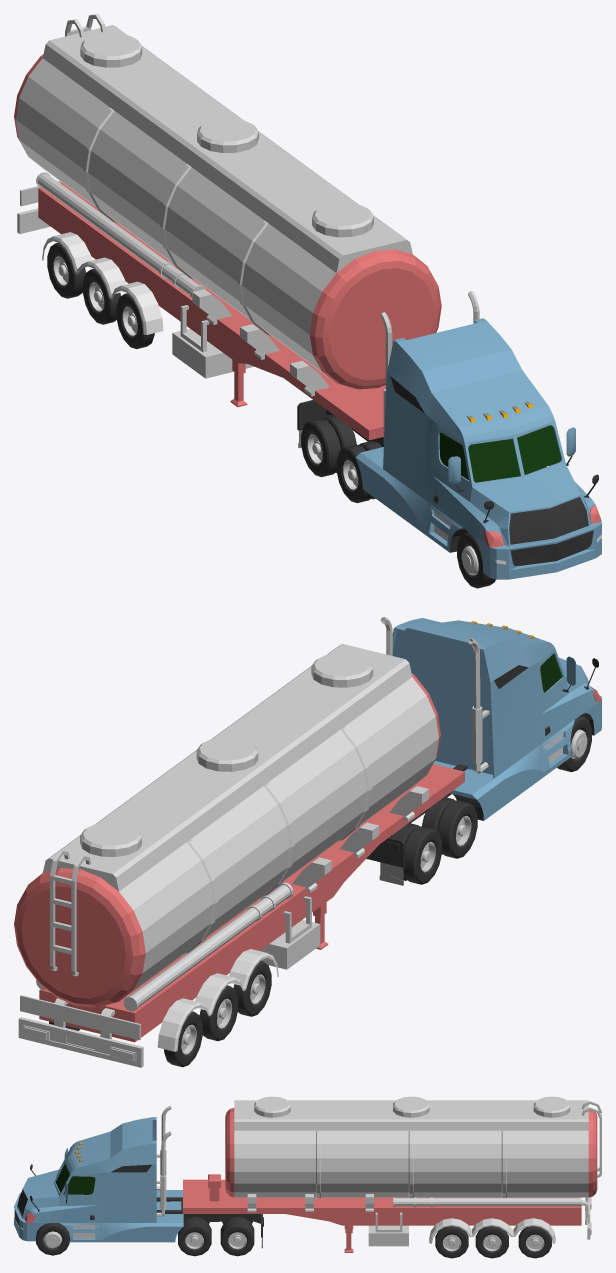
Rendered from truck-tanker.glb.
The picture shows the model from 3 angles, top to bottom: view 1: azimuth 30°, elevation 25°; view 2: azimuth 150°, elevation 25°; view 3: azimuth 270°, elevation 25°; orthographic projection. The views are drawn at different scales.
Visible parts, largest first — view 1: Bl, Cabin_2, TrailerBox, wheels_2, wheels2_2, Trailer4, wing, exhaust_2; view 2: Bl, Cabin_2, TrailerBox, Trailer4, wheels_2, wheels2_2, wing, exhaust_2, bottom_2; view 3: Bl, Cabin_2, TrailerBox, wheels_2, wheels1_2, Trailer4, wing, exhaust_2, bottom_2.
Part boxes in pixels (x1,y1,x2,y2): Bl: (14,14,441,396); Cabin_2: (355,318,601,579); TrailerBox: (38,182,385,440); wheels_2: (301,415,495,588); wheels2_2: (47,243,154,349); Trailer4: (17,180,254,378); wing: (42,232,163,334); exhaust_2: (380,291,479,444); Bl: (14,644,440,1011); Cabin_2: (392,618,601,820); TrailerBox: (39,764,464,1042); Trailer4: (18,896,320,1067); wheels_2: (391,715,591,884); wheels2_2: (164,961,271,1067); wing: (157,949,278,1051); exhaust_2: (380,617,489,773); bottom_2: (366,764,467,867); Bl: (225,1096,601,1211); Cabin_2: (14,1117,183,1242); TrailerBox: (183,1174,581,1252); wheels_2: (36,1217,254,1256); wheels1_2: (435,1226,551,1258); Trailer4: (368,1197,591,1246); wing: (429,1218,555,1243); exhaust_2: (156,1106,171,1216); bottom_2: (156,1197,263,1237).
Size of the model in its own units: 1.92 by 3.12 by 12.09.
